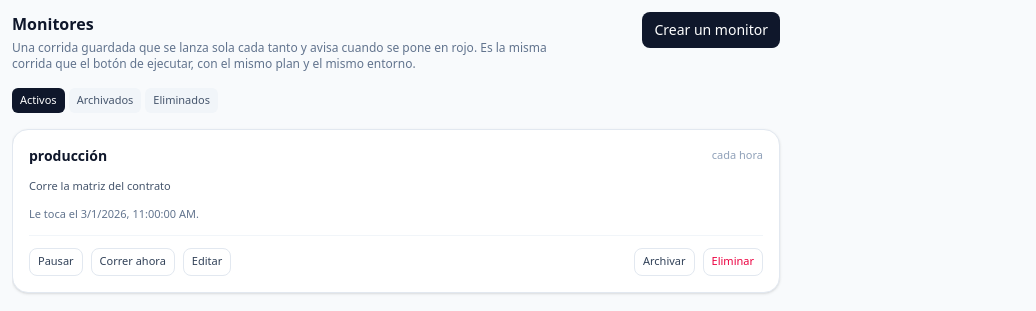
los botones de la tarjeta › correr ahora: lanzada, saltada con su nota, saltada sin nota, y un fallo
The width and height of the screenshot is (1036, 311).
Click the button "Correr ahora".
click(133, 262)  # box [91,248,175,276]
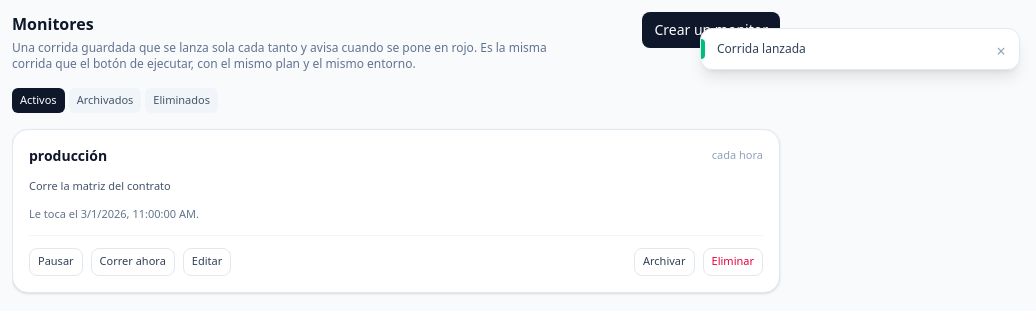
Now the text "Corrida lanzada" is shown, box [717,40,806,57]
Click the button "Correr ahora".
click(133, 262)  # box [91,248,175,276]
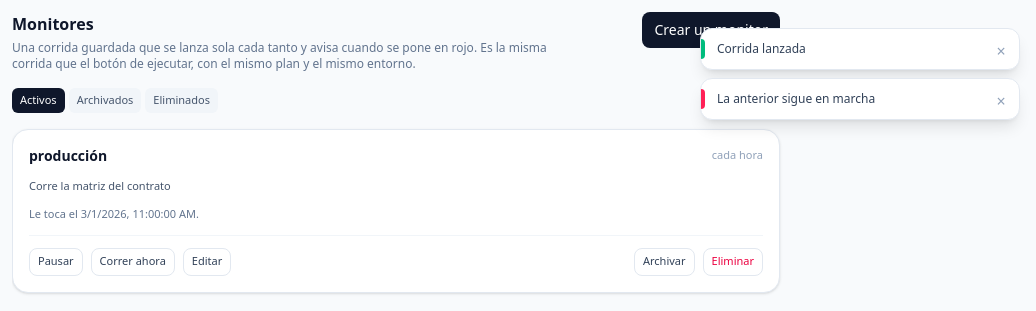
Now the text "La anterior sigue en marcha" is shown, box [717,90,875,107]
Click the button "Correr ahora".
click(133, 262)  # box [91,248,175,276]
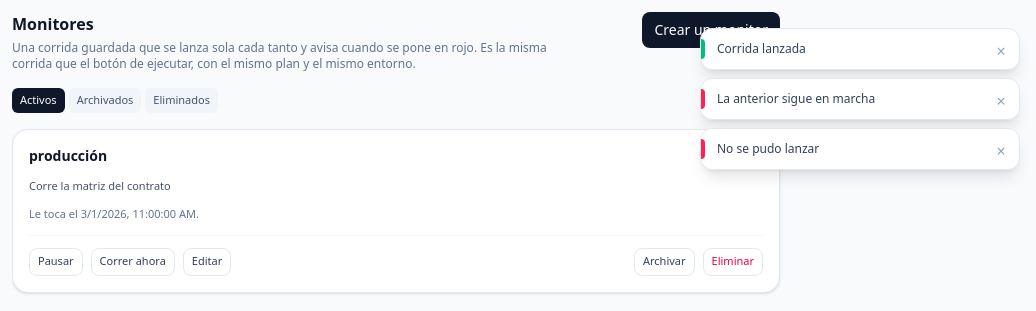
Now the text "No se pudo lanzar" is shown, box [717,140,819,157]
Click the button "Correr ahora".
click(133, 262)  # box [91,248,175,276]
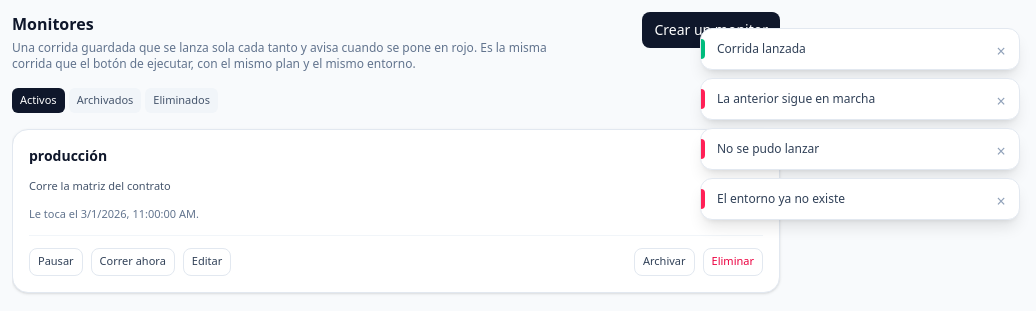
Now the text "El entorno ya no existe" is shown, box [717,190,845,207]
